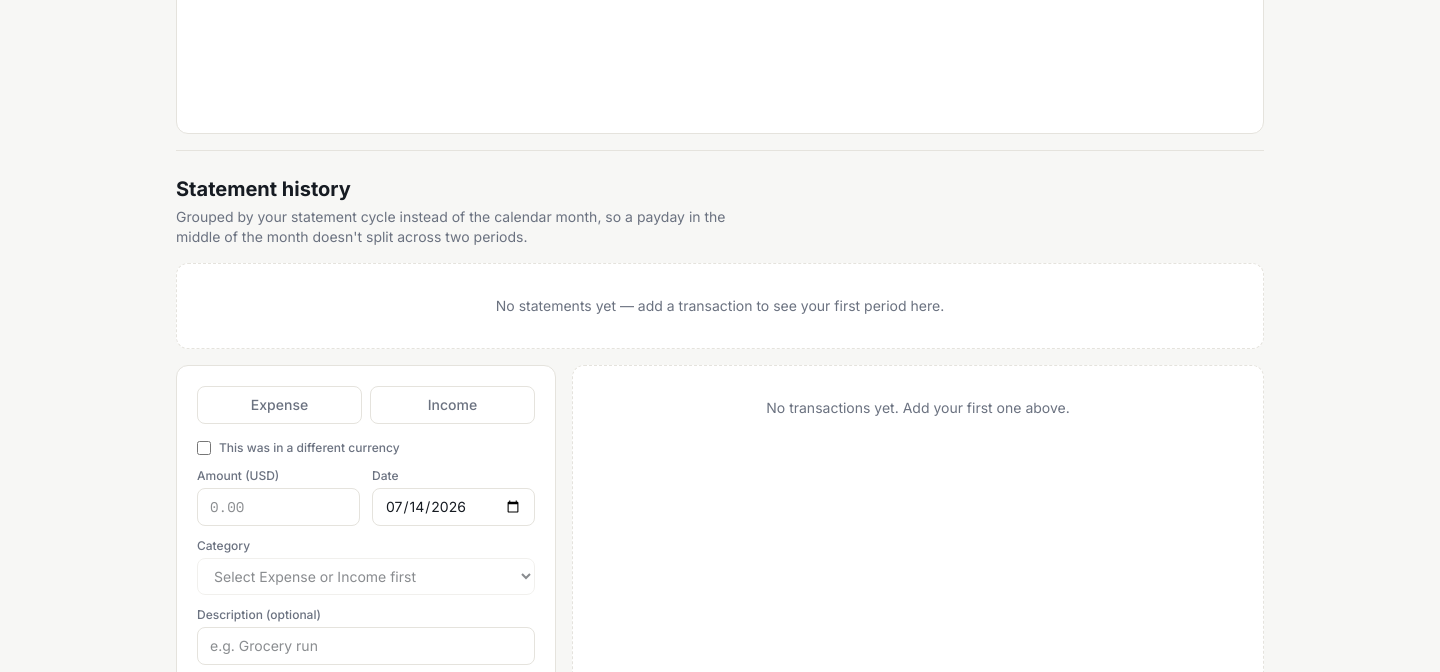
Test: App › converts a foreign-currency transaction into the home currency
The width and height of the screenshot is (1440, 672).
(page scrolled)
Click the button "Expense" at (280, 405), box [197,386,362,424]
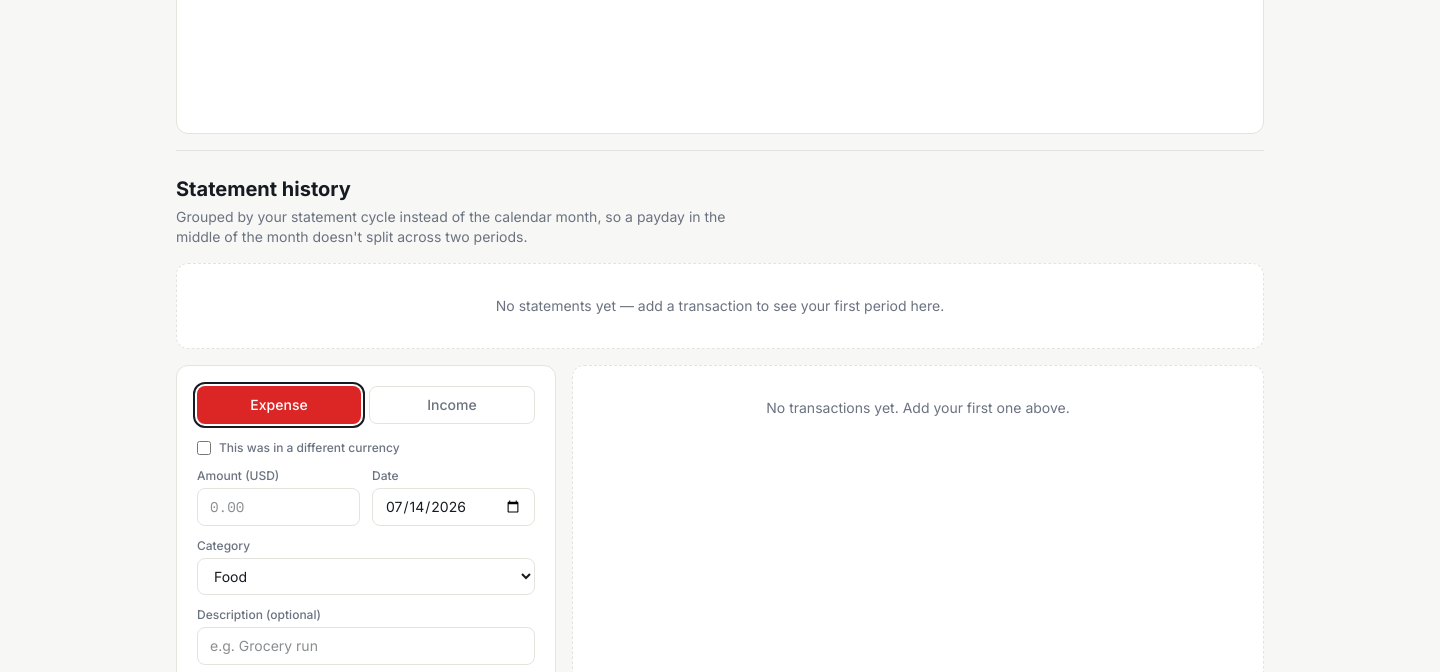
Click the checkbox labelled "This was in a different currency" at (204, 448), box [197,441,211,455]
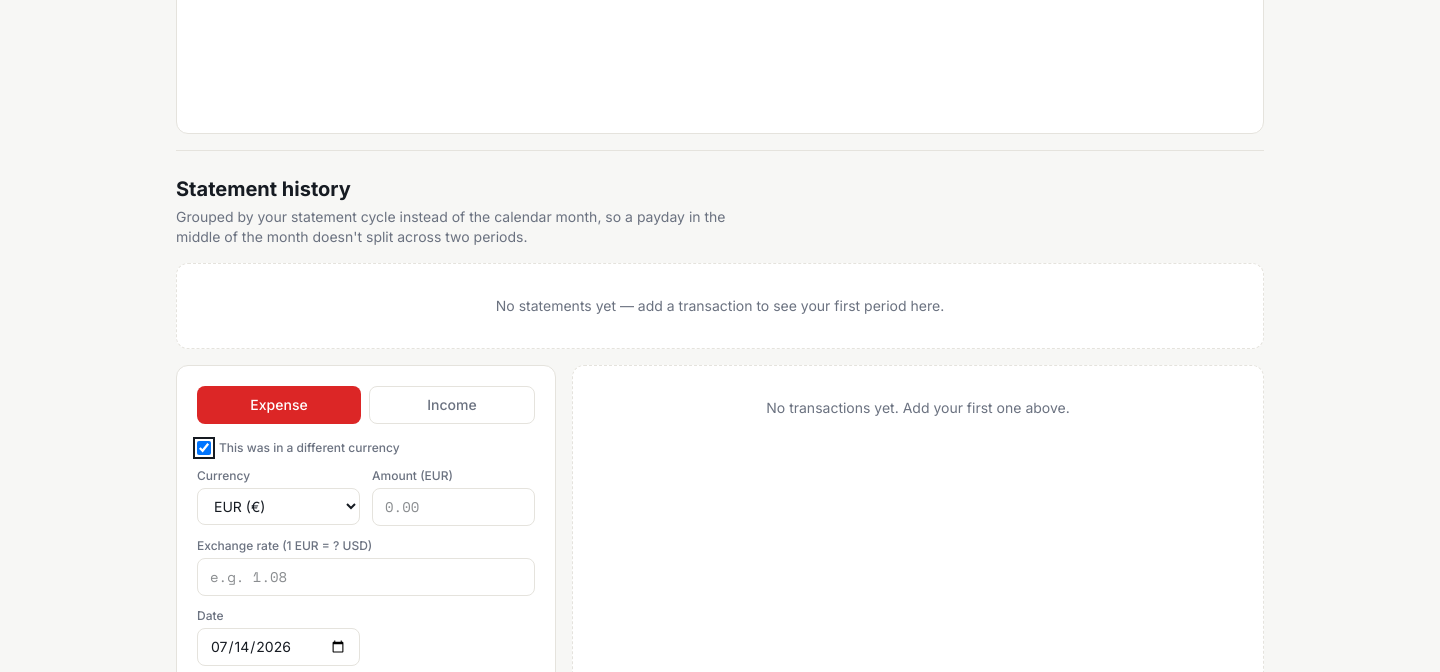
Type "50" into the number field labelled "Amount (EUR)" at (454, 507), box [372,488,535,526]
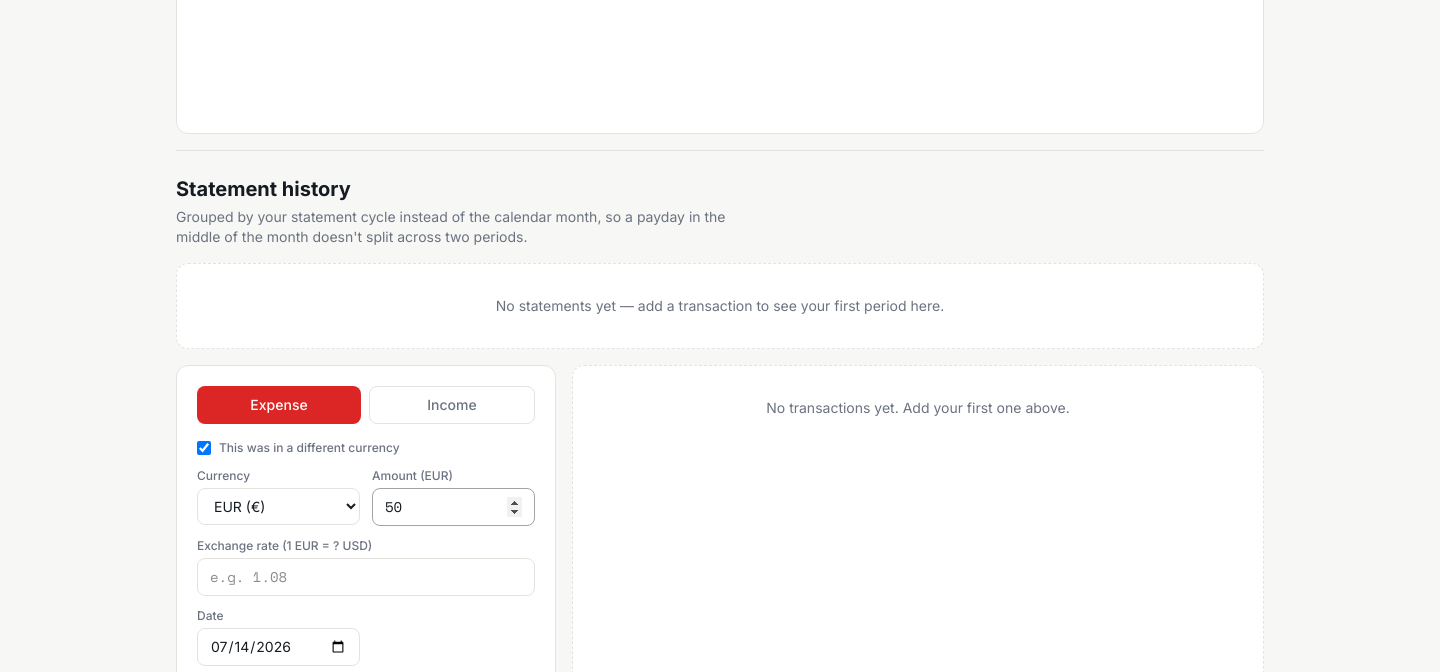
Type "1.08" into the number field labelled "Exchange rate (1 EUR = ? USD)" at (366, 577), box [197,558,535,596]
(page scrolled)
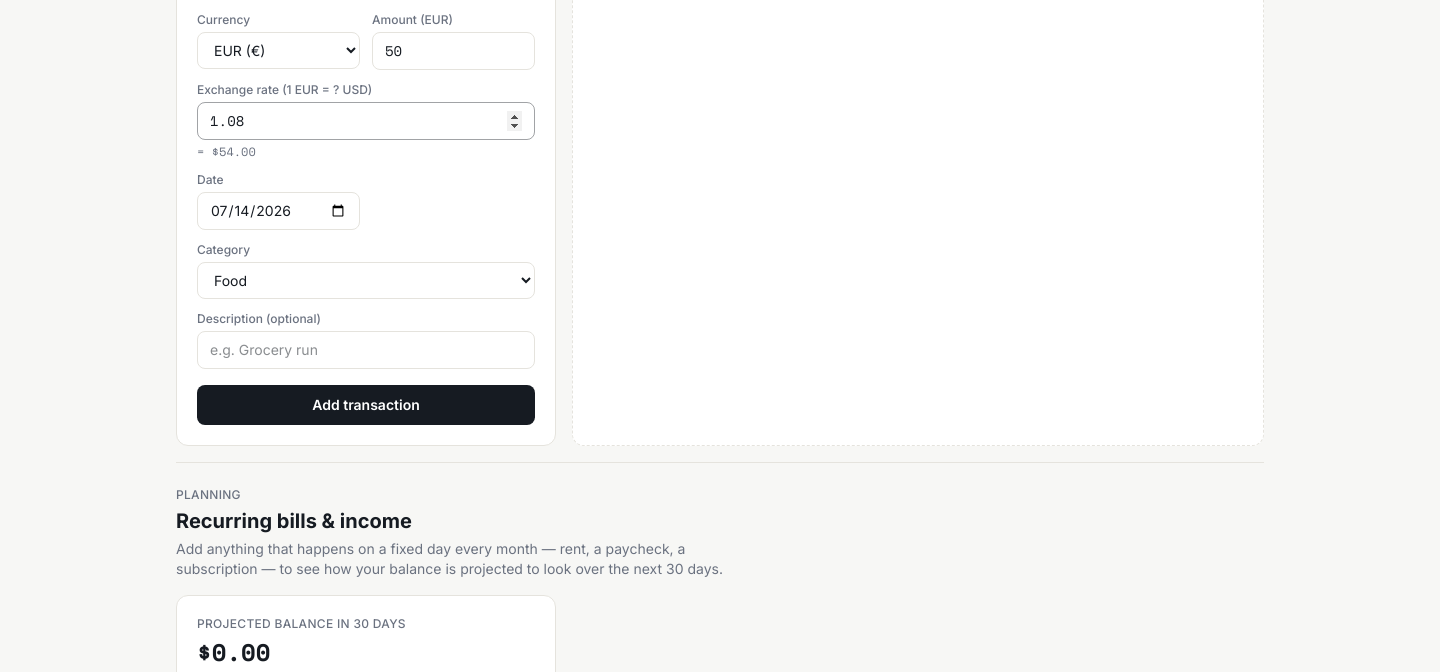
Click the button "Add transaction" at (366, 405), box [197,385,535,425]
(page scrolled)
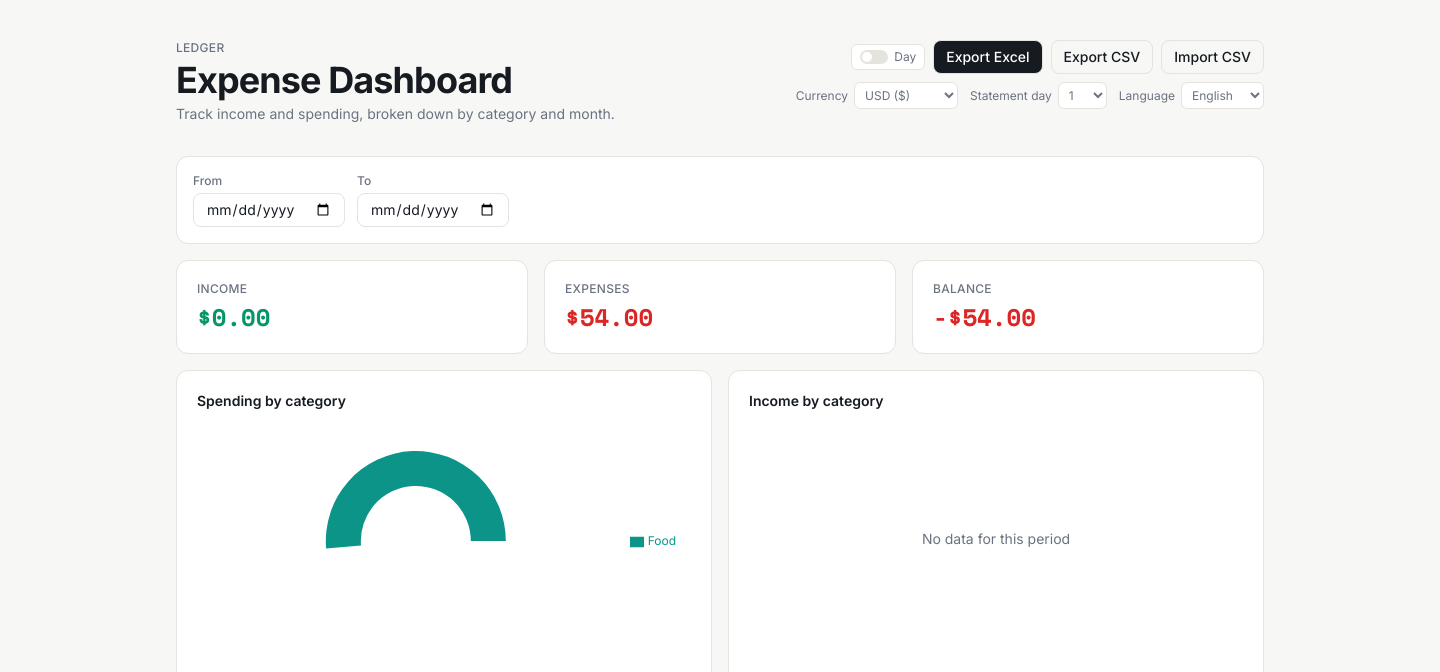
Expected: the text "-$54.00" is shown, [933,299,1036,335]
